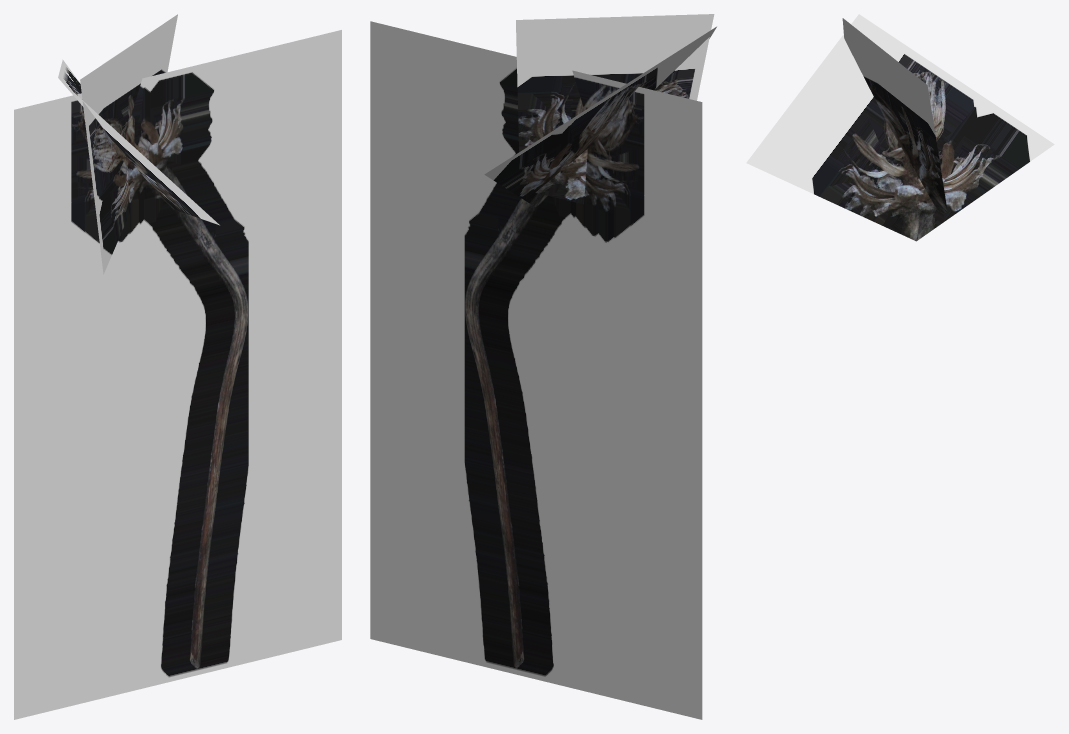
The model's file is dead_sunflower3.glb.
3 views of the same model, side by side, from view 1: azimuth 30°, elevation 25°; view 2: azimuth 150°, elevation 25°; view 3: azimuth 270°, elevation 25° (orthographic). The views are drawn at different scales.
Parts seen in each view (by area): view 1: DeadSunflower3_DeadSunflower3_0; view 2: DeadSunflower3_DeadSunflower3_0; view 3: DeadSunflower3_DeadSunflower3_0.
Boxes of the visible parts, <box> form: DeadSunflower3_DeadSunflower3_0: <box>14,14,341,719</box>; DeadSunflower3_DeadSunflower3_0: <box>370,14,716,719</box>; DeadSunflower3_DeadSunflower3_0: <box>746,14,1054,241</box>.
Size of the model in its own units: 0.562 by 1.09 by 0.5282.
Materials: 1 (1 with a texture image).
